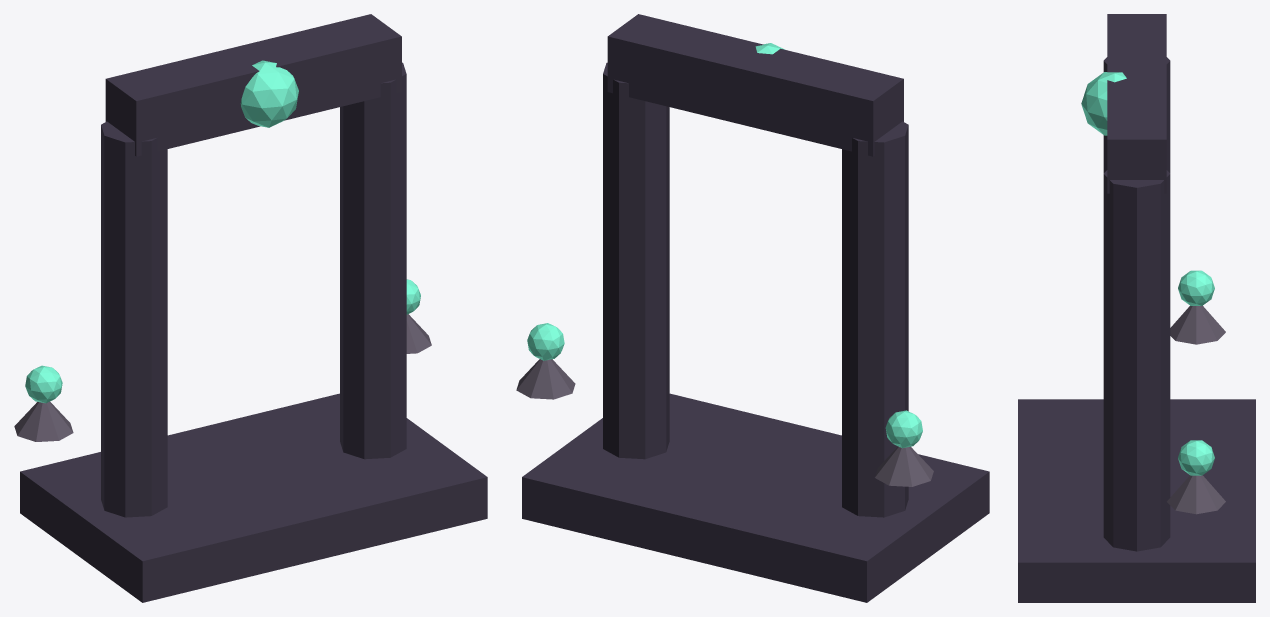
File: Portal_Cripta_Almas.fbx
3 views of the same model, side by side, from view 1: azimuth 30°, elevation 25°; view 2: azimuth 150°, elevation 25°; view 3: azimuth 270°, elevation 25° (orthographic). The views are drawn at different scales.
Parts seen in each view (by area): view 1: P4_Base_Sepulcro, P4_Pilar_Gotico_-1.8, P4_Pilar_Gotico_1.8, P4_Arco_Ojival, P4_Mascara_Gotica, P4_Brasero_-1.8, P4_Llama_-1.8, P4_Brasero_1.8; view 2: P4_Base_Sepulcro, P4_Pilar_Gotico_1.8, P4_Arco_Ojival, P4_Pilar_Gotico_-1.8, P4_Brasero_1.8, P4_Brasero_-1.8, P4_Llama_1.8, P4_Llama_-1.8; view 3: P4_Base_Sepulcro, P4_Pilar_Gotico_1.8, P4_Arco_Ojival, P4_Brasero_1.8, P4_Brasero_-1.8, P4_Mascara_Gotica, P4_Llama_1.8, P4_Llama_-1.8, P4_Pilar_Gotico_-1.8.
Part boxes in pixels (<box>): P4_Base_Sepulcro: <box>20,393,487,602</box>; P4_Pilar_Gotico_-1.8: <box>101,121,167,517</box>; P4_Pilar_Gotico_1.8: <box>340,62,406,459</box>; P4_Arco_Ojival: <box>105,14,401,156</box>; P4_Mascara_Gotica: <box>240,60,298,127</box>; P4_Brasero_-1.8: <box>14,401,73,441</box>; P4_Llama_-1.8: <box>25,365,62,403</box>; P4_Brasero_1.8: <box>406,314,431,353</box>; P4_Base_Sepulcro: <box>522,393,989,602</box>; P4_Pilar_Gotico_1.8: <box>603,62,669,459</box>; P4_Arco_Ojival: <box>607,14,903,156</box>; P4_Pilar_Gotico_-1.8: <box>842,121,908,517</box>; P4_Brasero_1.8: <box>516,359,575,399</box>; P4_Brasero_-1.8: <box>875,446,933,486</box>; P4_Llama_1.8: <box>527,323,564,360</box>; P4_Llama_-1.8: <box>885,410,922,448</box>; P4_Base_Sepulcro: <box>1018,399,1255,602</box>; P4_Pilar_Gotico_1.8: <box>1103,170,1170,551</box>; P4_Arco_Ojival: <box>1107,14,1166,193</box>; P4_Brasero_1.8: <box>1167,475,1225,514</box>; P4_Brasero_-1.8: <box>1170,305,1225,344</box>; P4_Mascara_Gotica: <box>1081,72,1126,135</box>; P4_Llama_1.8: <box>1178,440,1214,475</box>; P4_Llama_-1.8: <box>1178,270,1214,305</box>; P4_Pilar_Gotico_-1.8: <box>1103,57,1170,172</box>.
Size of the model in its own units: 620 by 665 by 320.
